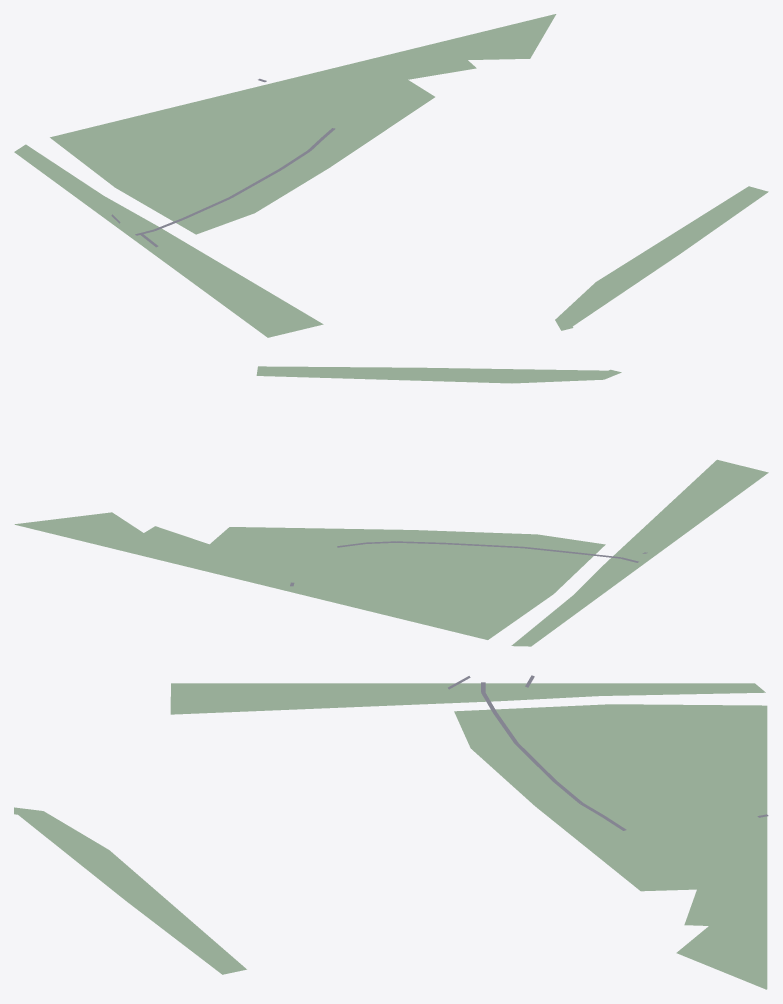
The model's file is 101_88_mid.glb.
The picture shows the model from 3 angles, top to bottom: view 1: azimuth 30°, elevation 25°; view 2: azimuth 150°, elevation 25°; view 3: azimuth 270°, elevation 25°; orthographic projection. The views are drawn at different scales.
Bounding box in the file's own units: 483 × 6.46 × 501.
